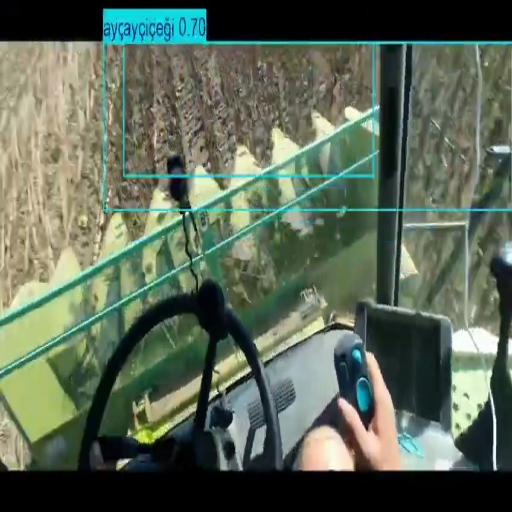ayc: (126, 48, 371, 175), (463, 114, 469, 119)
